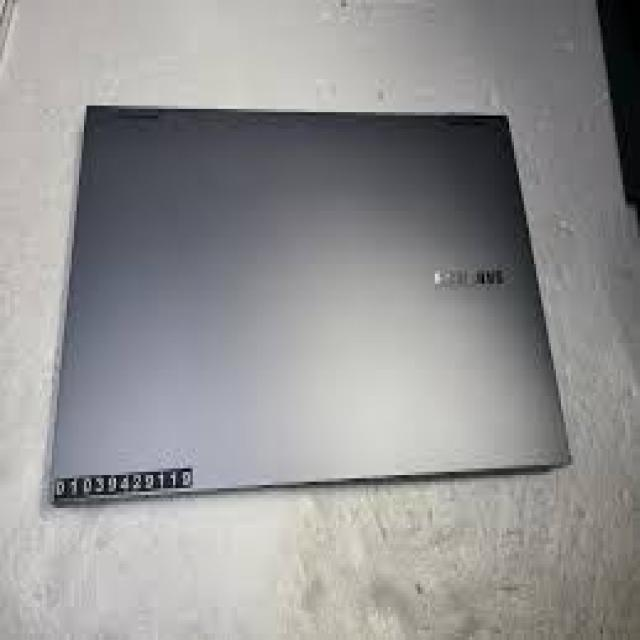laptop: (48, 103, 573, 507)
